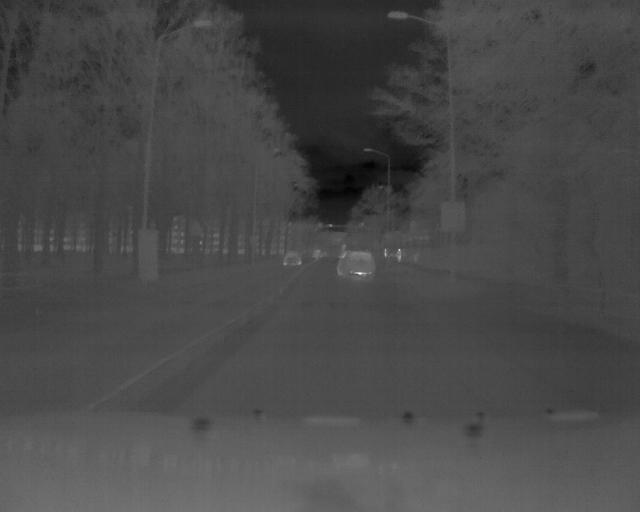car: (329, 244, 380, 283), (281, 245, 305, 270)
person: (396, 246, 409, 265)
